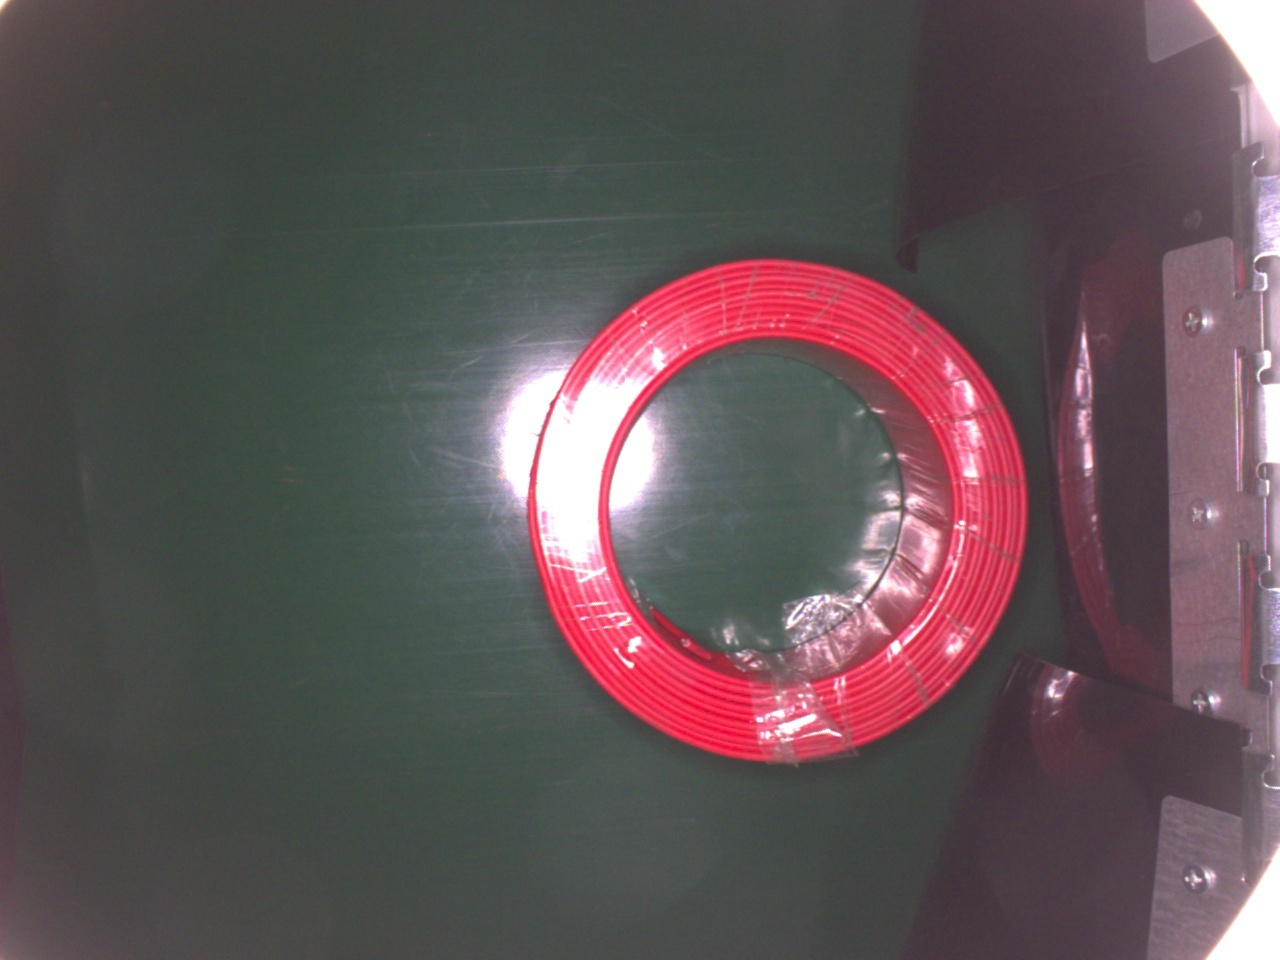red: (523, 247, 1043, 768)
